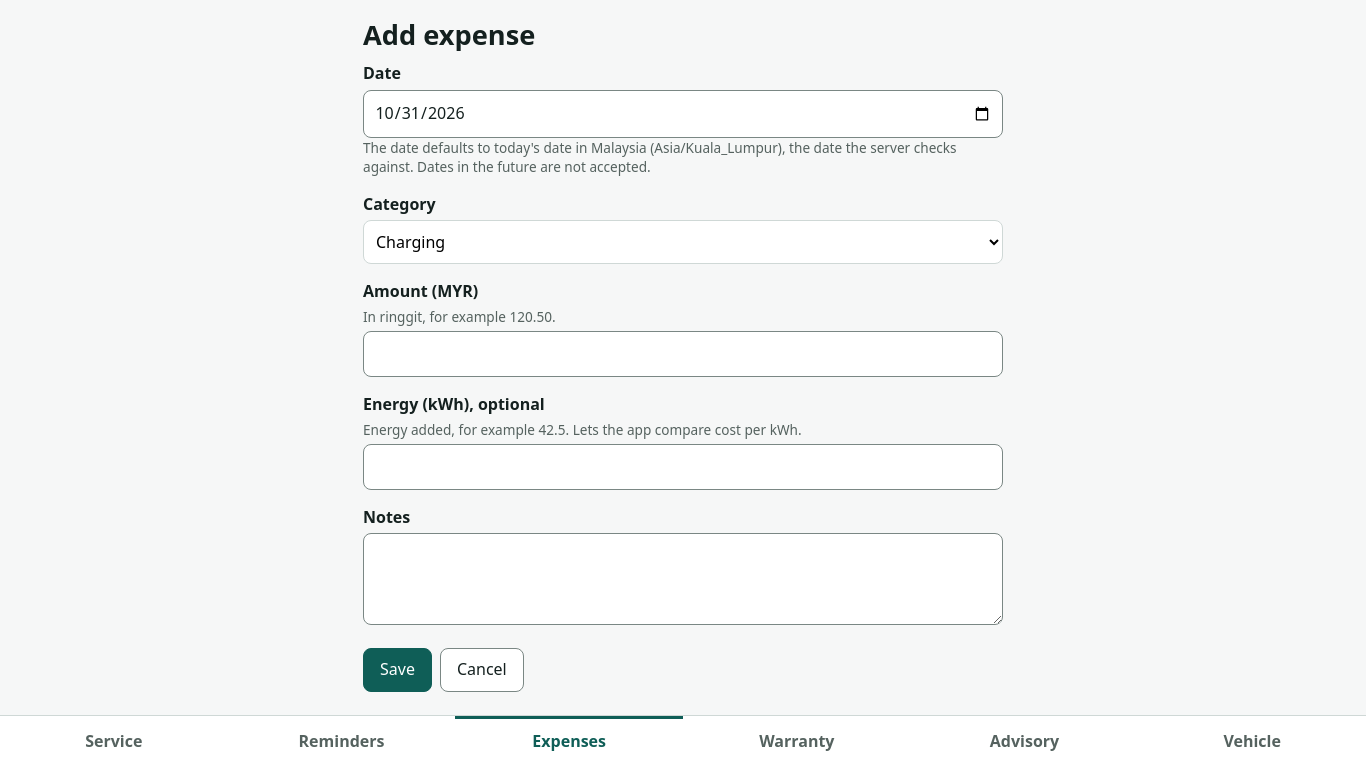
AC-30 / AC-32 / AC-38: create and edit › blocks a bad amount, a zero amount and a future date before anything is sent
(page scrolled)
Click the button "Save" at (397, 670), box [363,648,432,692]
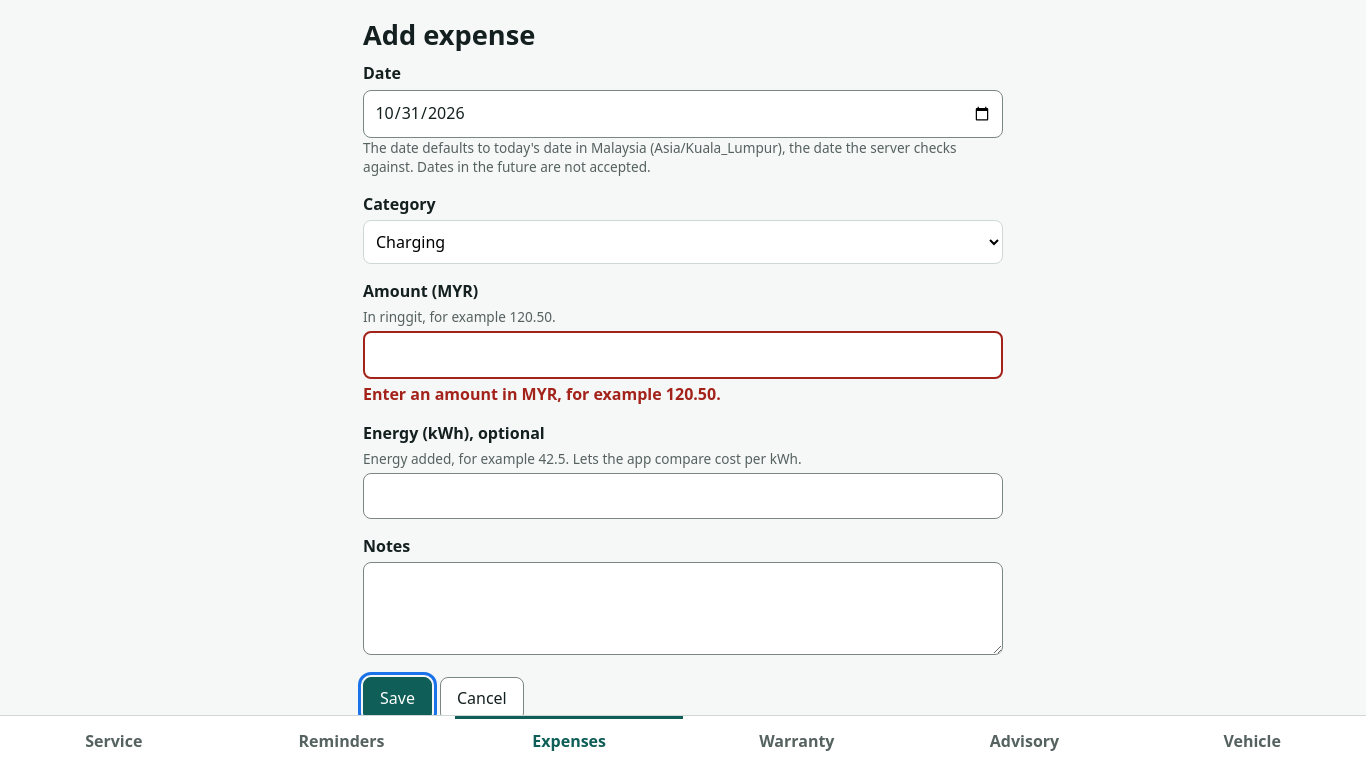
Result: the text "Enter an amount in MYR, for example 120.50." is shown at [363,383,721,405]
Type "1.234" into the field labelled "Amount (MYR)" at (683, 355), box [363,331,1003,379]
Click the button "Save" at (397, 699), box [363,677,432,721]
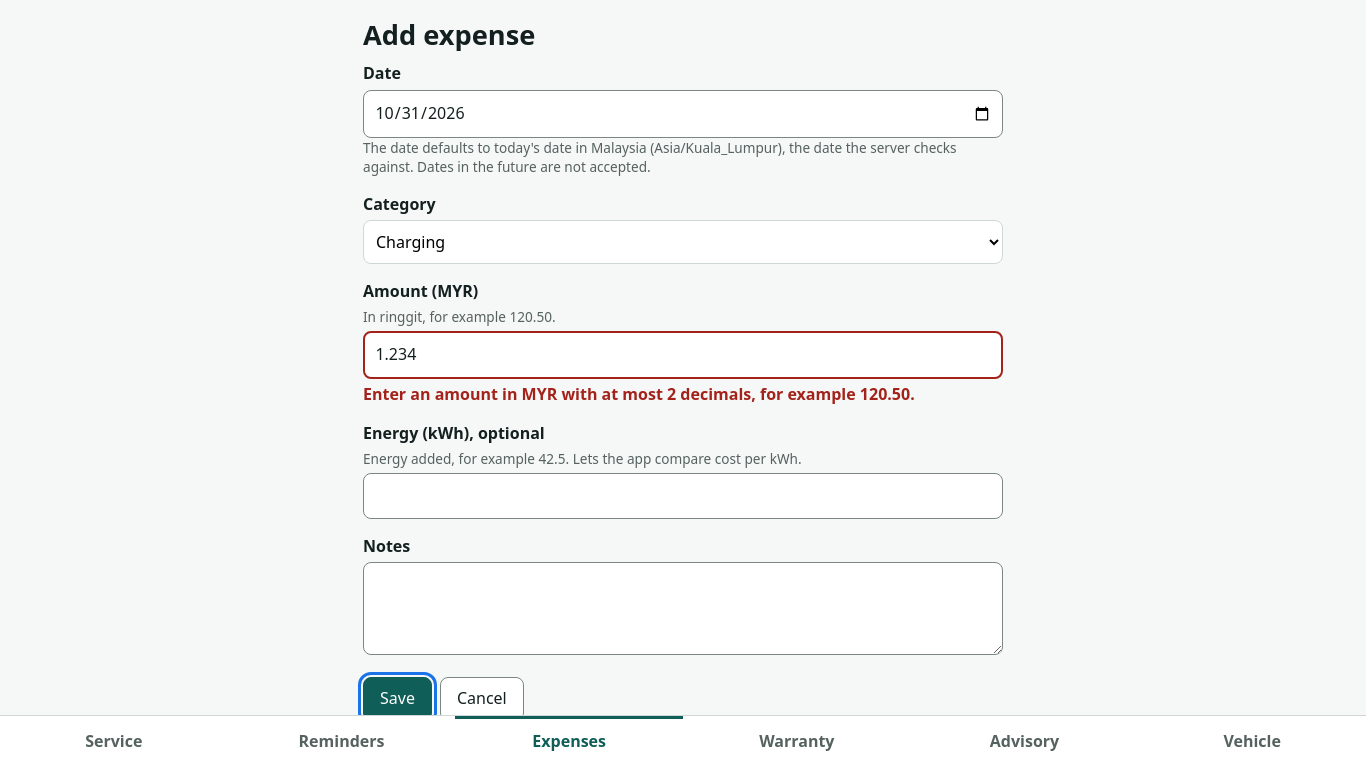
Result: the text "Enter an amount in MYR with at most 2 decimals, for example 120.50." is shown at [363,383,1003,406]
Replace the text in the field labelled "Amount (MYR)" with "0" at (683, 355), box [363,331,1003,379]
Click the button "Save" at (397, 699), box [363,677,432,721]
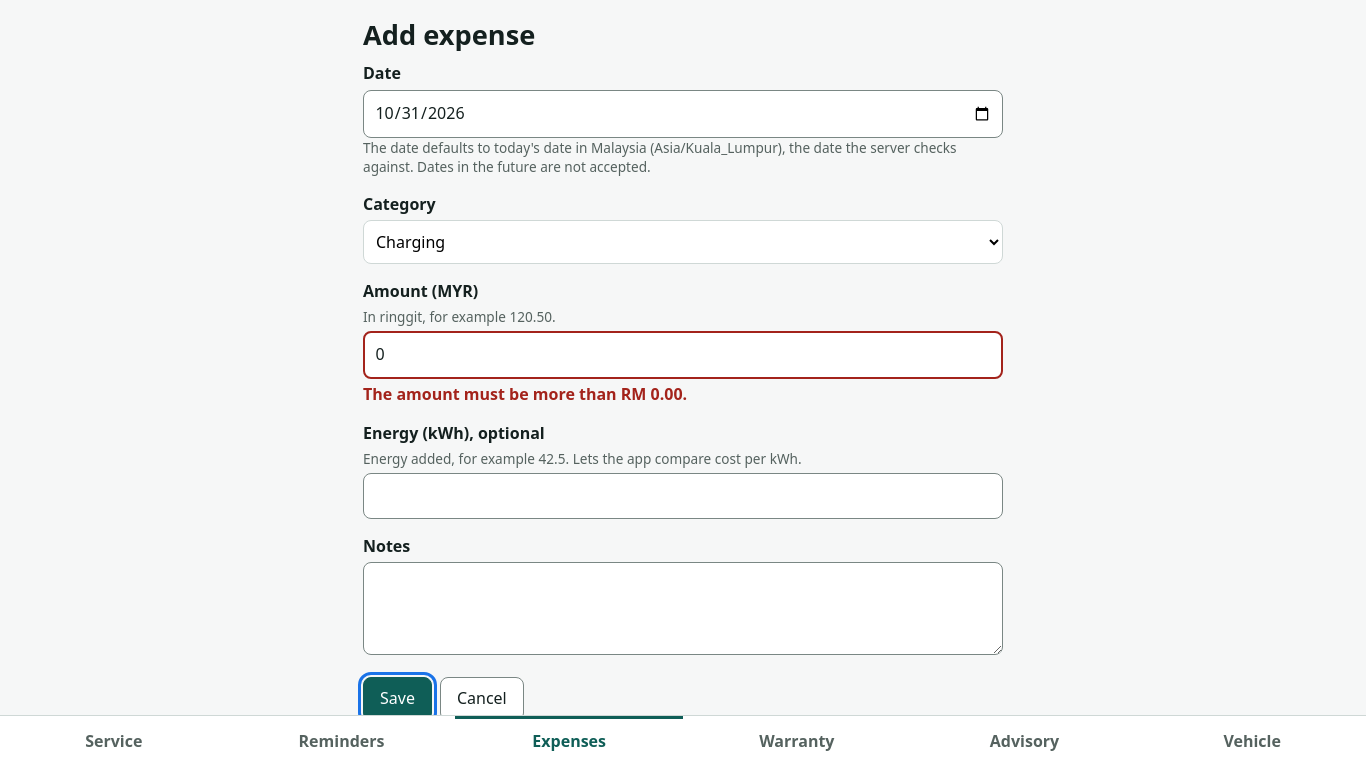
Result: the text "The amount must be more than RM 0.00." is shown at [363,383,687,405]
Replace the text in the field labelled "Amount (MYR)" with "5" at (683, 355), box [363,331,1003,379]
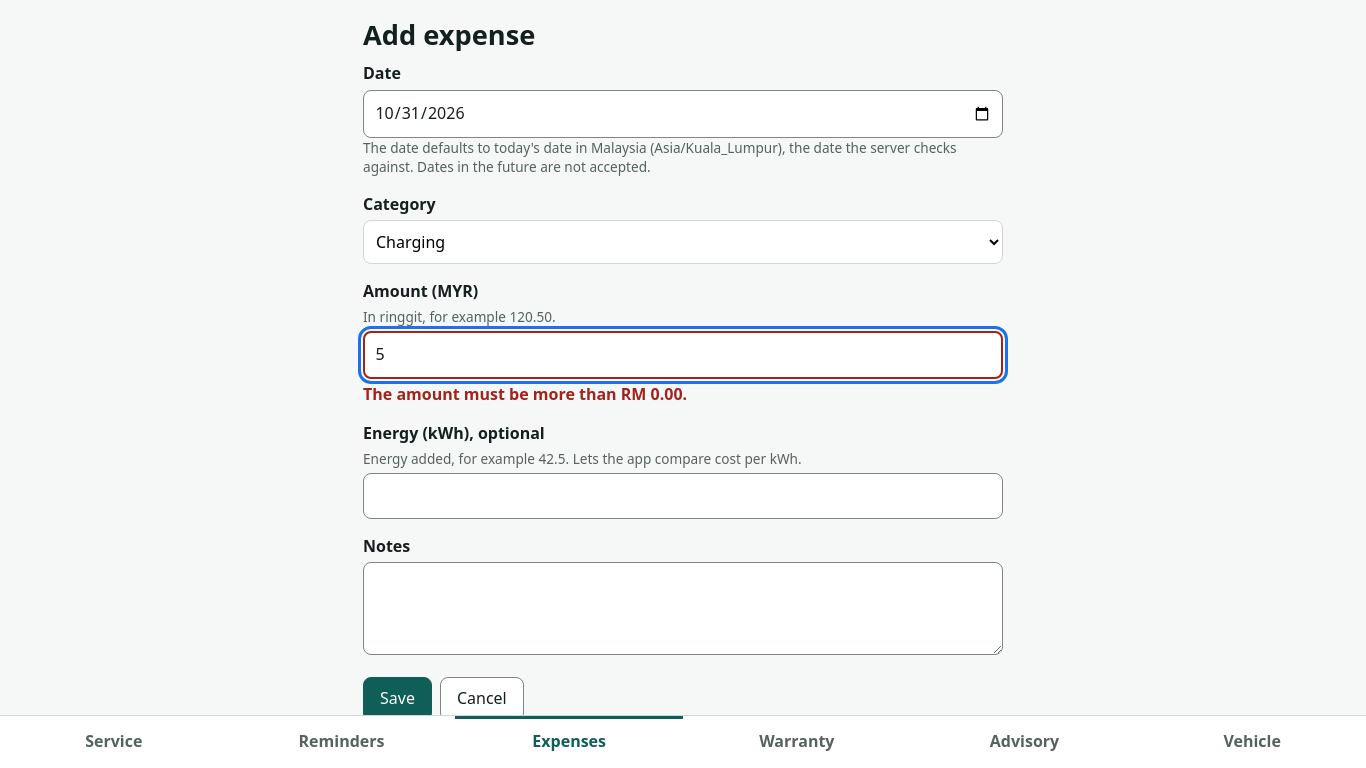
Type "2026-11-01" into the date field labelled "Date" at (683, 114), box [363,90,1003,138]
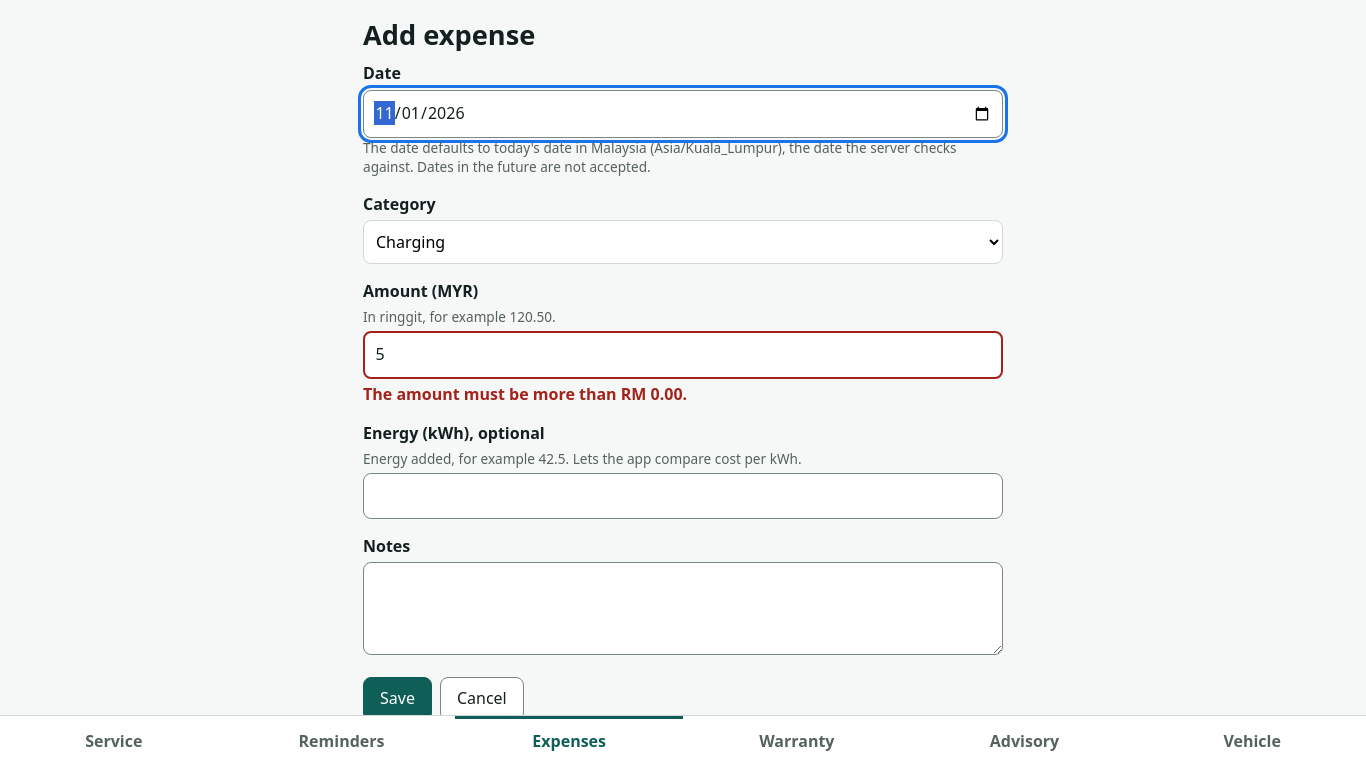
Click the button "Save" at (397, 699), box [363,677,432,721]
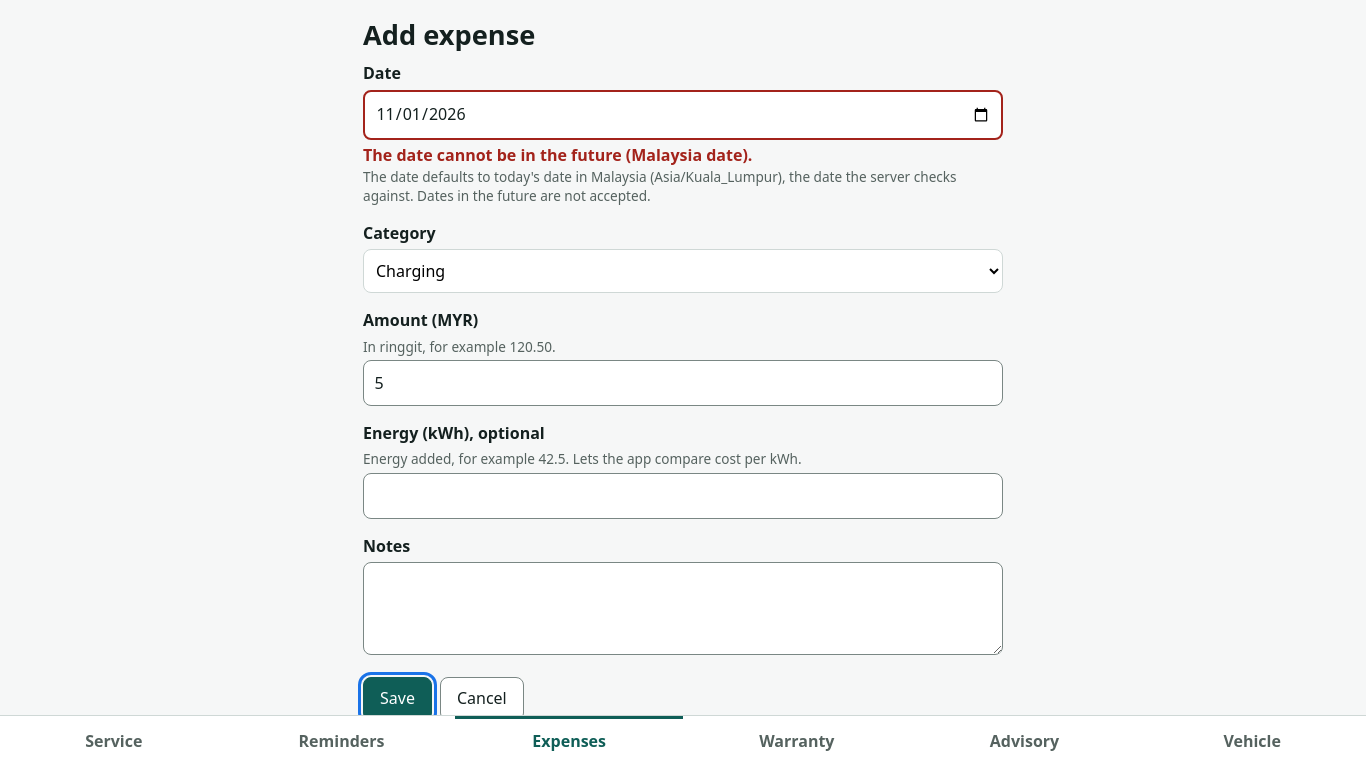
Result: the text "The date cannot be in the future (Malaysia date)." is shown at [363,144,752,166]
